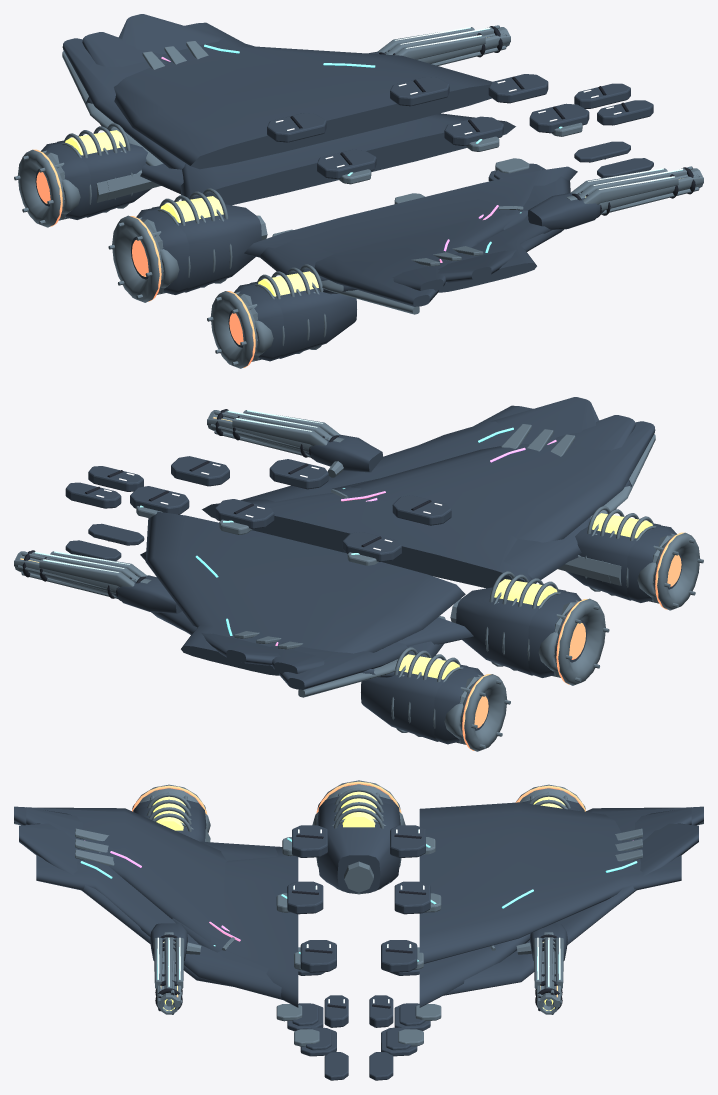
File: sovereign.glb
3 views of the same model, one above another, from view 1: azimuth 30°, elevation 25°; view 2: azimuth 150°, elevation 25°; view 3: azimuth 270°, elevation 25° (orthographic).
Visible parts, largest first — view 1: w_vane Fitting gunmetal, w_razor Fitting gunmetal, w_phantom Fitting gunmetal, p_heavy Fitting gunmetal, e_twin Fitting gunmetal, e_nova Brushed fitting edges, w_prism Fitting gunmetal, e_nova Fitting gunmetal, m_array Brushed fitting edges, e_fusion Brushed fitting edges, e_twin Brushed fitting edges, e_fusion e_fusion emitter (+9 smaller); view 2: w_vane Fitting gunmetal, w_phantom Fitting gunmetal, w_razor Fitting gunmetal, p_heavy Fitting gunmetal, e_twin Fitting gunmetal, e_nova Brushed fitting edges, w_prism Fitting gunmetal, e_nova Fitting gunmetal, m_array Brushed fitting edges, m_heavy Fitting gunmetal, e_fusion Brushed fitting edges, e_twin Brushed fitting edges (+10 smaller); view 3: w_vane Fitting gunmetal, w_razor Fitting gunmetal, w_phantom Fitting gunmetal, p_heavy Fitting gunmetal, w_prism Fitting gunmetal, e_twin Fitting gunmetal, p_light Brushed fitting edges, m_array Brushed fitting edges, e_fusion Brushed fitting edges, w_vane Brushed fitting edges, e_fusion e_fusion emitter, e_nova Brushed fitting edges (+11 smaller).
Part boxes in pixels (<box>): w_vane Fitting gunmetal: <box>114,22,570,292</box>; w_razor Fitting gunmetal: <box>82,32,577,290</box>; w_phantom Fitting gunmetal: <box>62,38,518,306</box>; p_heavy Fitting gunmetal: <box>267,74,653,181</box>; e_twin Fitting gunmetal: <box>57,140,356,358</box>; e_nova Brushed fitting edges: <box>14,149,261,368</box>; w_prism Fitting gunmetal: <box>86,14,563,294</box>; e_nova Fitting gunmetal: <box>35,142,283,361</box>; m_array Brushed fitting edges: <box>377,27,686,204</box>; e_fusion Brushed fitting edges: <box>44,123,337,360</box>; e_twin Brushed fitting edges: <box>61,150,315,355</box>; e_fusion e_fusion emitter: <box>65,130,318,296</box>; w_vane Fitting gunmetal: <box>145,405,590,675</box>; w_phantom Fitting gunmetal: <box>209,421,655,689</box>; w_razor Fitting gunmetal: <box>140,415,635,673</box>; p_heavy Fitting gunmetal: <box>65,456,451,577</box>; e_twin Fitting gunmetal: <box>361,523,660,741</box>; e_nova Brushed fitting edges: <box>456,532,703,751</box>; w_prism Fitting gunmetal: <box>151,397,631,677</box>; e_nova Fitting gunmetal: <box>434,525,682,744</box>; m_array Brushed fitting edges: <box>31,410,340,587</box>; m_heavy Fitting gunmetal: <box>113,434,382,613</box>; e_fusion Brushed fitting edges: <box>380,506,673,743</box>; e_twin Brushed fitting edges: <box>402,533,656,738</box>; w_vane Fitting gunmetal: <box>36,802,681,1000</box>; w_razor Fitting gunmetal: <box>26,807,691,1007</box>; w_phantom Fitting gunmetal: <box>14,806,703,942</box>; p_heavy Fitting gunmetal: <box>287,825,430,1080</box>; w_prism Fitting gunmetal: <box>19,823,698,995</box>; e_twin Fitting gunmetal: <box>135,801,580,892</box>; p_light Brushed fitting edges: <box>276,837,441,1046</box>; m_array Brushed fitting edges: <box>153,938,564,988</box>; e_fusion Brushed fitting edges: <box>144,788,573,882</box>; w_vane Brushed fitting edges: <box>75,828,642,865</box>; e_fusion e_fusion emitter: <box>152,791,565,830</box>; e_nova Brushed fitting edges: <box>132,780,585,841</box>.
Bounding box in the file's own units: 61.24 × 15.57 × 72.68.
